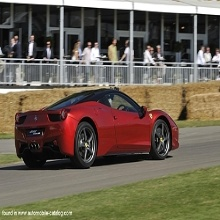no damage: (15, 87, 180, 169)
